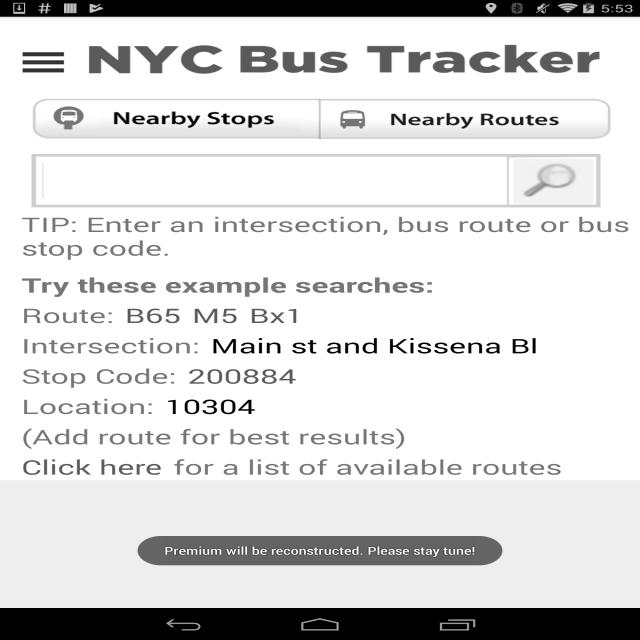Button: (21, 95, 320, 142), (320, 95, 619, 142)
EditText: (31, 154, 512, 207)
ImageButton: (0, 19, 60, 57)
ImageView: (501, 154, 608, 207)
TextView: (21, 211, 640, 261), (21, 272, 435, 298), (173, 454, 562, 481), (21, 423, 406, 450), (211, 332, 538, 359), (21, 332, 200, 359), (21, 362, 177, 390), (21, 454, 163, 481), (21, 392, 154, 420), (188, 362, 296, 390), (165, 392, 255, 420), (21, 302, 114, 328), (125, 302, 181, 328), (249, 302, 304, 328), (192, 302, 238, 328)
